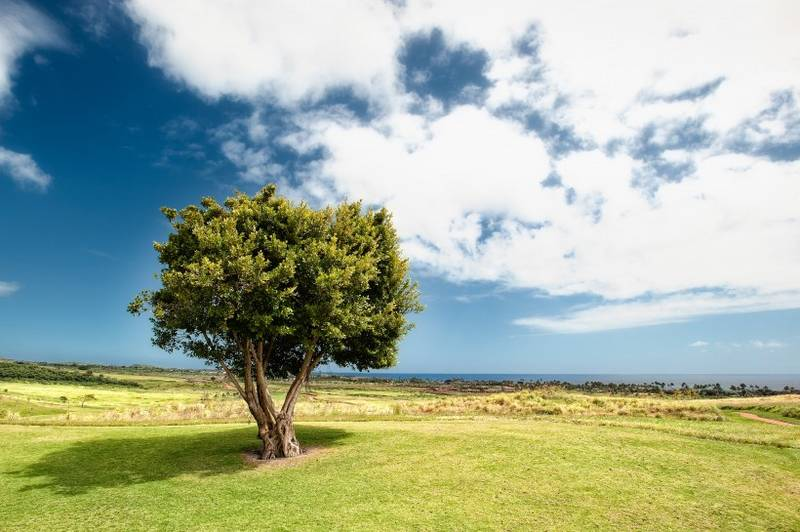tree: (124, 180, 429, 460)
